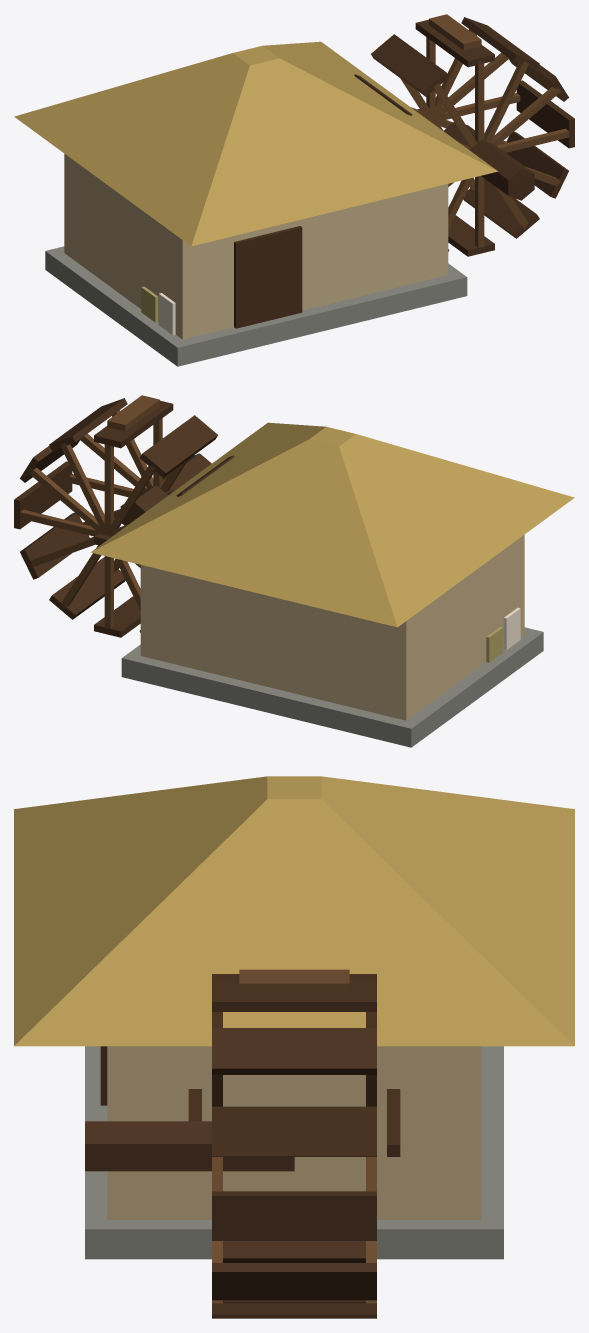
Rendered from prop_mill.glb.
3 renders of one model, top to bottom at view 1: azimuth 30°, elevation 25°; view 2: azimuth 150°, elevation 25°; view 3: azimuth 270°, elevation 25°, orthographic. The views are drawn at different scales.
Visible parts, largest first — view 1: prop_mill; view 2: prop_mill; view 3: prop_mill.
Boxes of the visible parts, x1,y1,x2,y2 form: prop_mill: (14, 14, 574, 366); prop_mill: (14, 395, 574, 747); prop_mill: (14, 776, 574, 1318).
Bounding box in the file's own units: 7.4 × 3.6 × 5.09.
